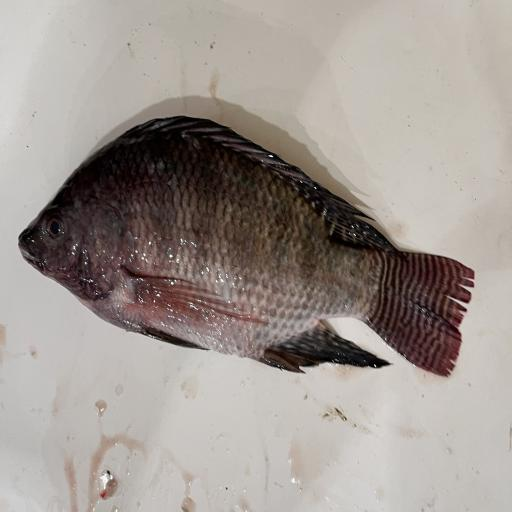Tilapia: (18, 115, 475, 377)
